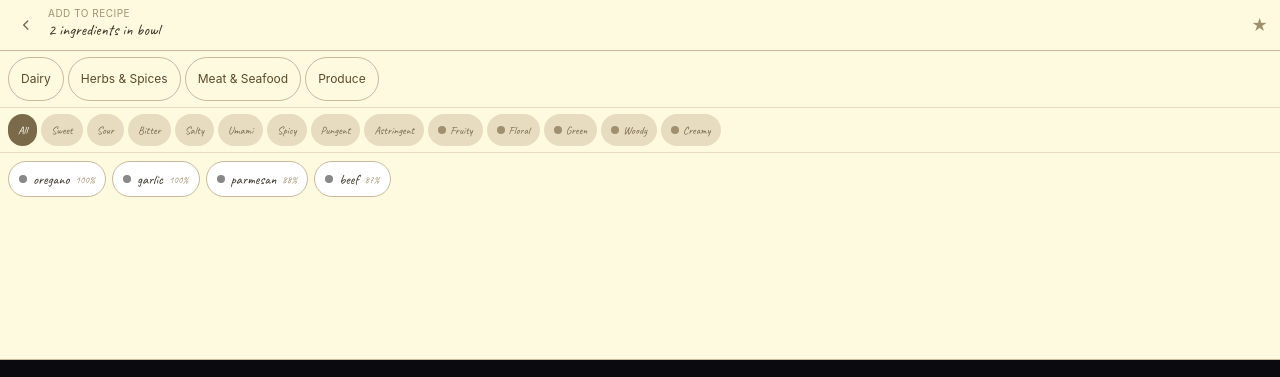
Scenario: IngredientSuggestionsPopout — RL-CATEGORY-FILTER (§14 food-category pills) › tap pill → activates (aria-pressed=true) and narrows candidate set
This screenshot has width=1280, height=377.
Click the button with test id "category-pill-Dairy". click: (36, 79)
box: [8, 57, 64, 101]
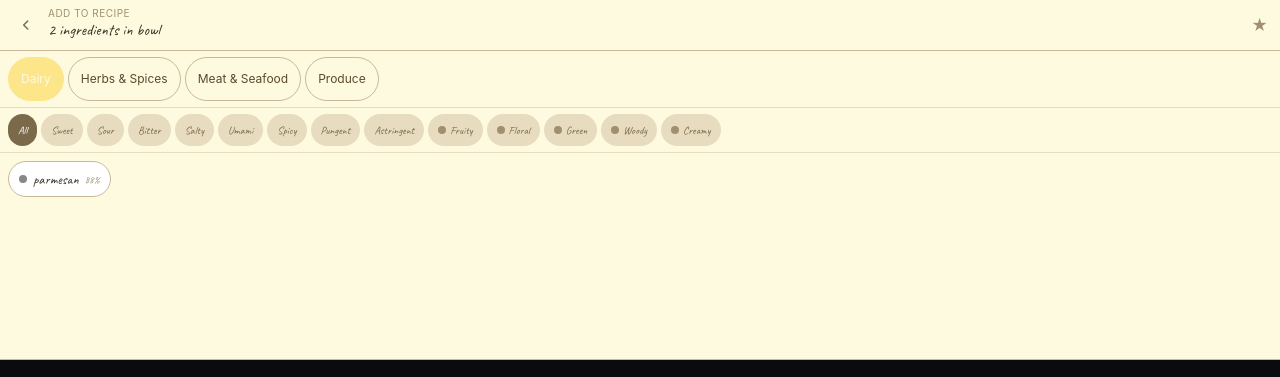
Check: the text "parmesan" is shown, box [33, 168, 79, 190]
Check: the text "beef" is gone
